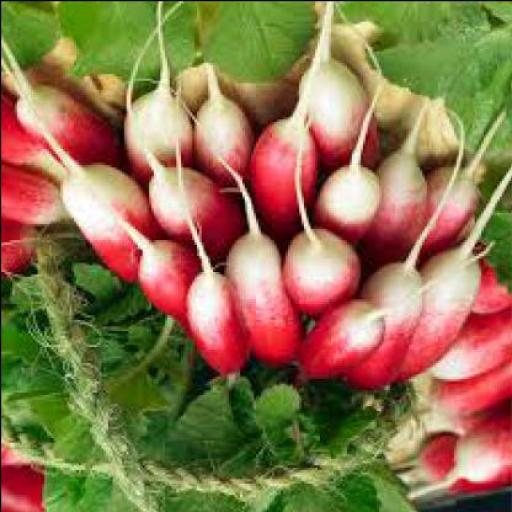biodegradable: (1, 1, 511, 511), (2, 261, 418, 479), (118, 2, 244, 268), (219, 146, 307, 368), (405, 92, 509, 262), (348, 80, 434, 273), (296, 2, 387, 180), (113, 2, 196, 194), (41, 470, 421, 511), (328, 3, 492, 91), (276, 152, 357, 322), (389, 246, 480, 387), (306, 93, 380, 261), (55, 2, 194, 89), (9, 73, 120, 171), (247, 98, 319, 245), (184, 218, 248, 378), (191, 2, 316, 82), (441, 16, 510, 155), (354, 258, 424, 392), (287, 298, 394, 384), (182, 46, 246, 188), (104, 232, 196, 326), (408, 348, 510, 427), (421, 408, 509, 498), (402, 426, 510, 498), (421, 310, 509, 390), (1, 165, 64, 230), (1, 1, 57, 74), (1, 92, 46, 174), (371, 414, 420, 471), (464, 262, 510, 320), (1, 227, 43, 278), (1, 462, 43, 510), (471, 2, 510, 24), (1, 442, 26, 471)
